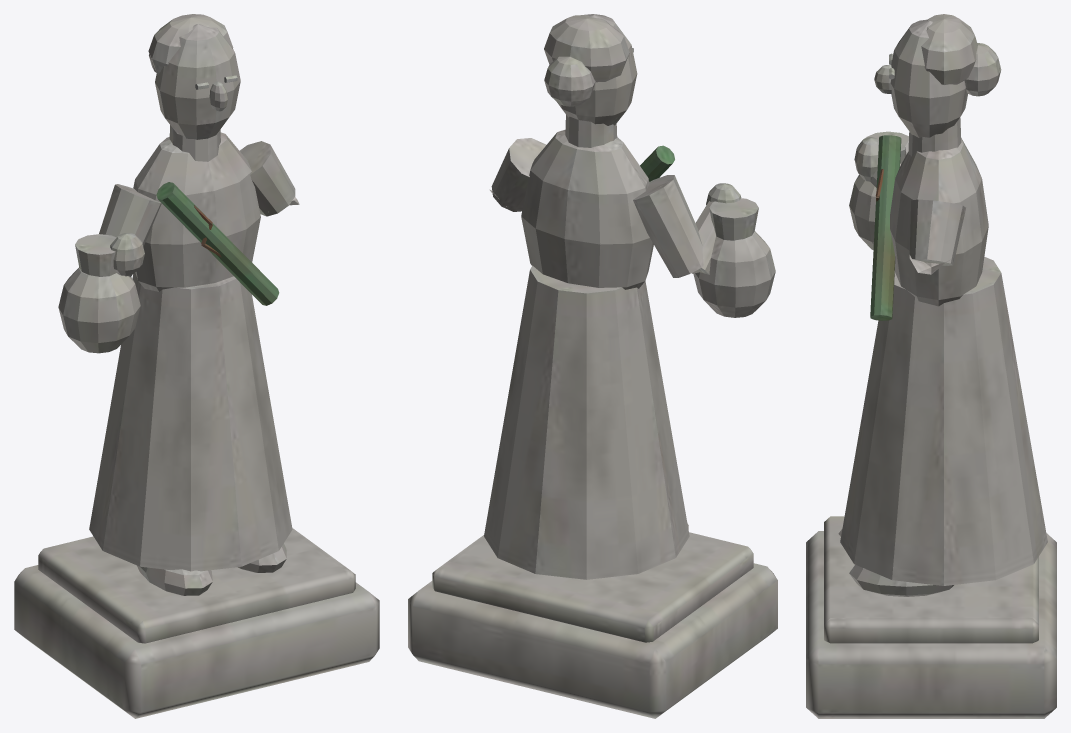
The model's file is RE19_broken_garden_statue_v1.glb.
3 views of the same model, side by side, from view 1: azimuth 30°, elevation 25°; view 2: azimuth 150°, elevation 25°; view 3: azimuth 270°, elevation 25° (orthographic). The views are drawn at different scales.
Visible parts, largest first — view 1: Square garden plinth; view 2: Square garden plinth; view 3: Square garden plinth.
Boxes of the visible parts, left/top/right/bottom form: Square garden plinth: left=14, top=14, right=379, bottom=718; Square garden plinth: left=408, top=14, right=777, bottom=718; Square garden plinth: left=806, top=14, right=1056, bottom=718.
Bounding box in the file's own units: 0.9418 × 2 × 0.7089.
4 materials, 4 textured.
